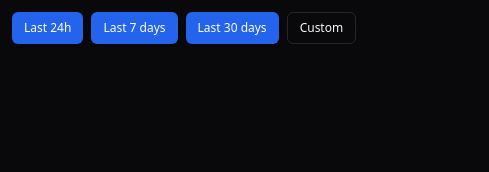
it: UsageRangePicker › reveals custom datetime inputs when Custom is chosen
This screenshot has width=489, height=172.
Click the button "Custom".
click(321, 28)  # box [287, 12, 356, 44]
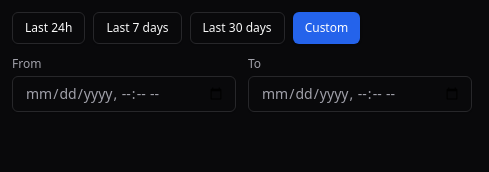
Result: the number of fields is 2 at [12, 76, 236, 112]; [248, 76, 472, 112]
